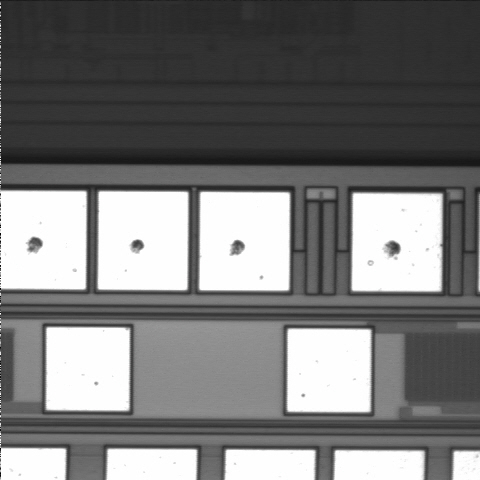pad: (199, 192, 290, 291), (98, 191, 188, 290), (352, 193, 442, 291), (46, 327, 130, 411), (287, 329, 371, 412)
